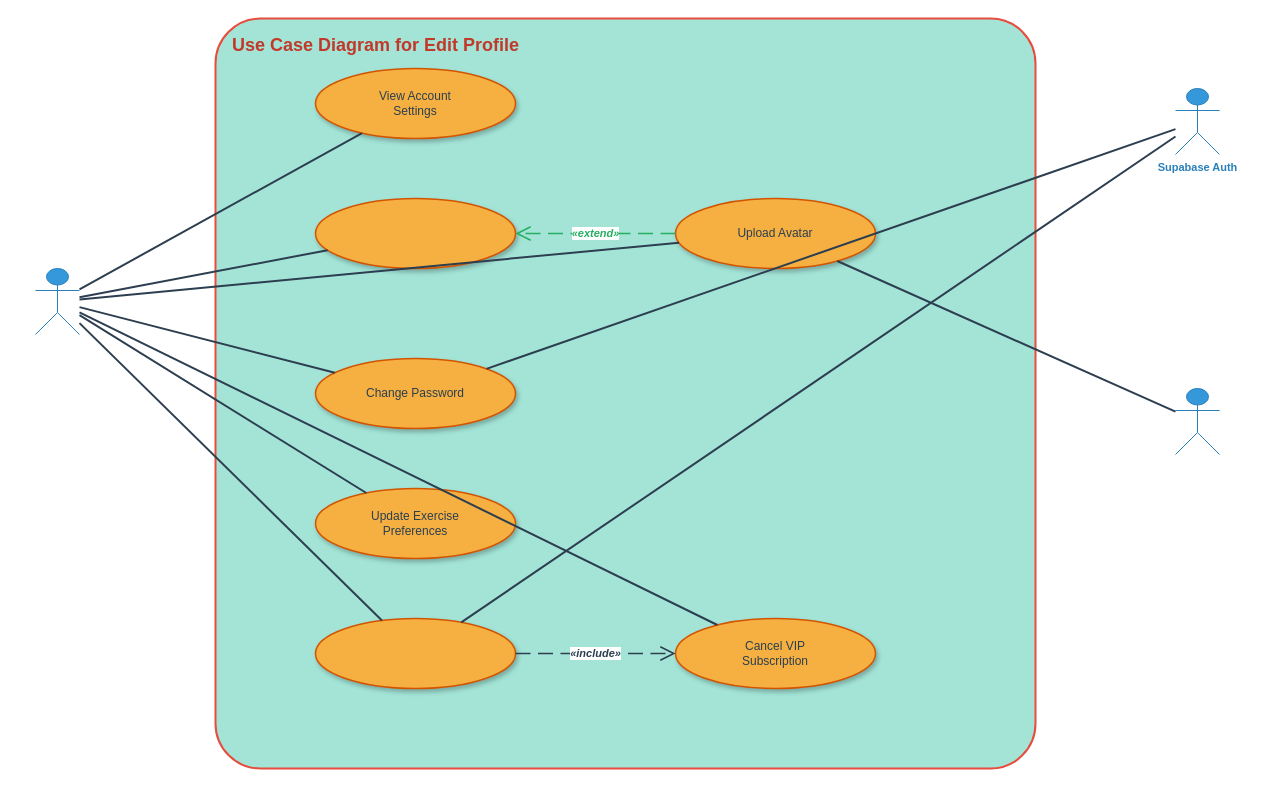
Some shapes in this 1262 by 786 pixel diagram are drawn without their labels. Here are the shapes that lost their labels. From the top down, the centre of each, then its label:
(416,234): Update Profile Information
(57,301): Authenticated User
(1197,421): Supabase Storage
(416,654): Delete Account
